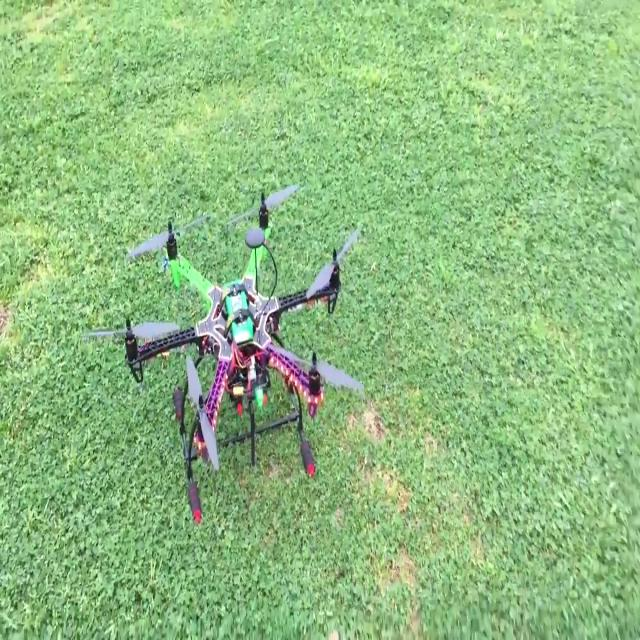drone: (107, 208, 375, 487)
